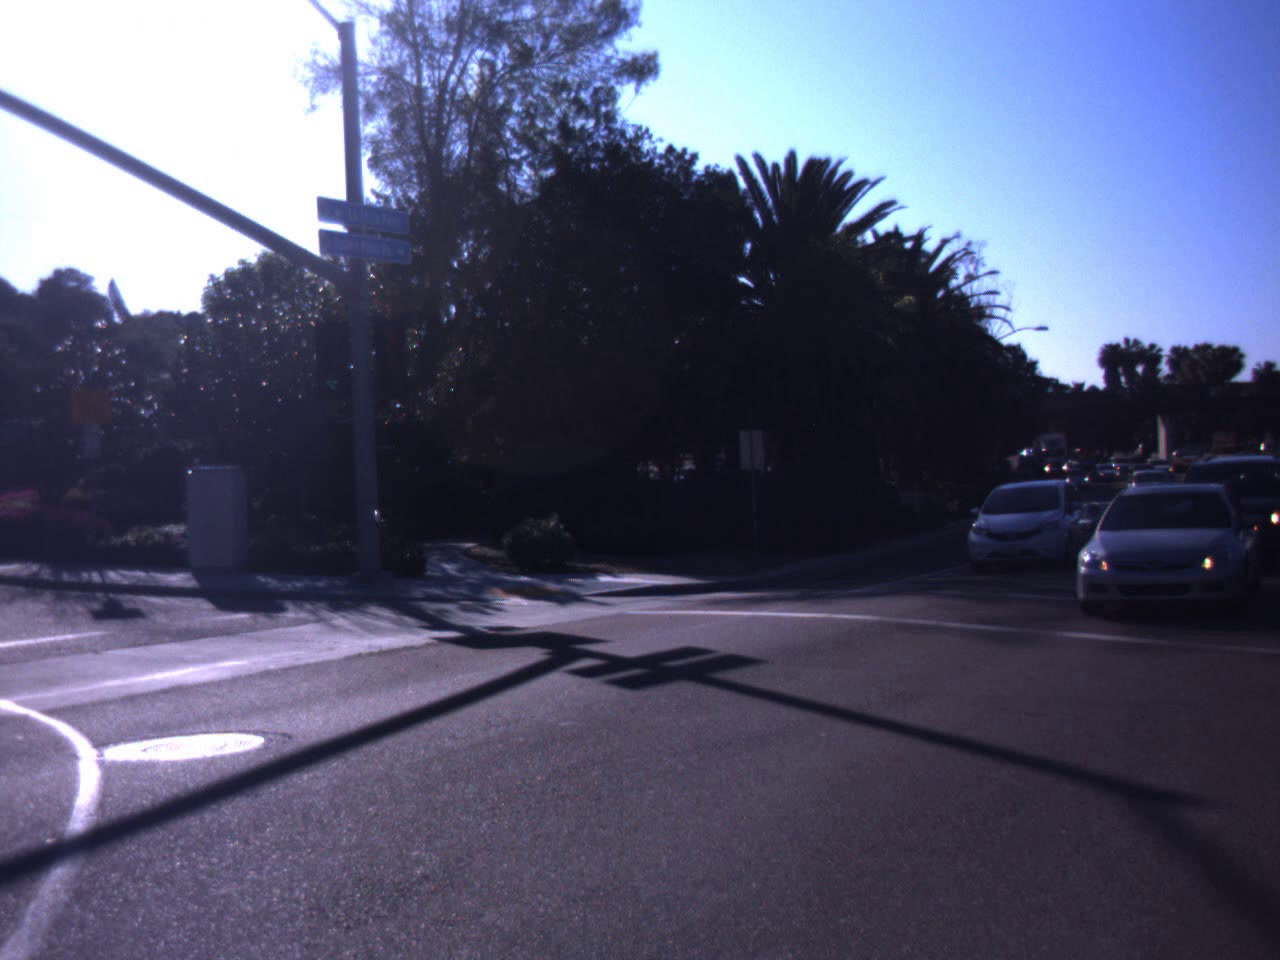go: (304, 322, 358, 397)
